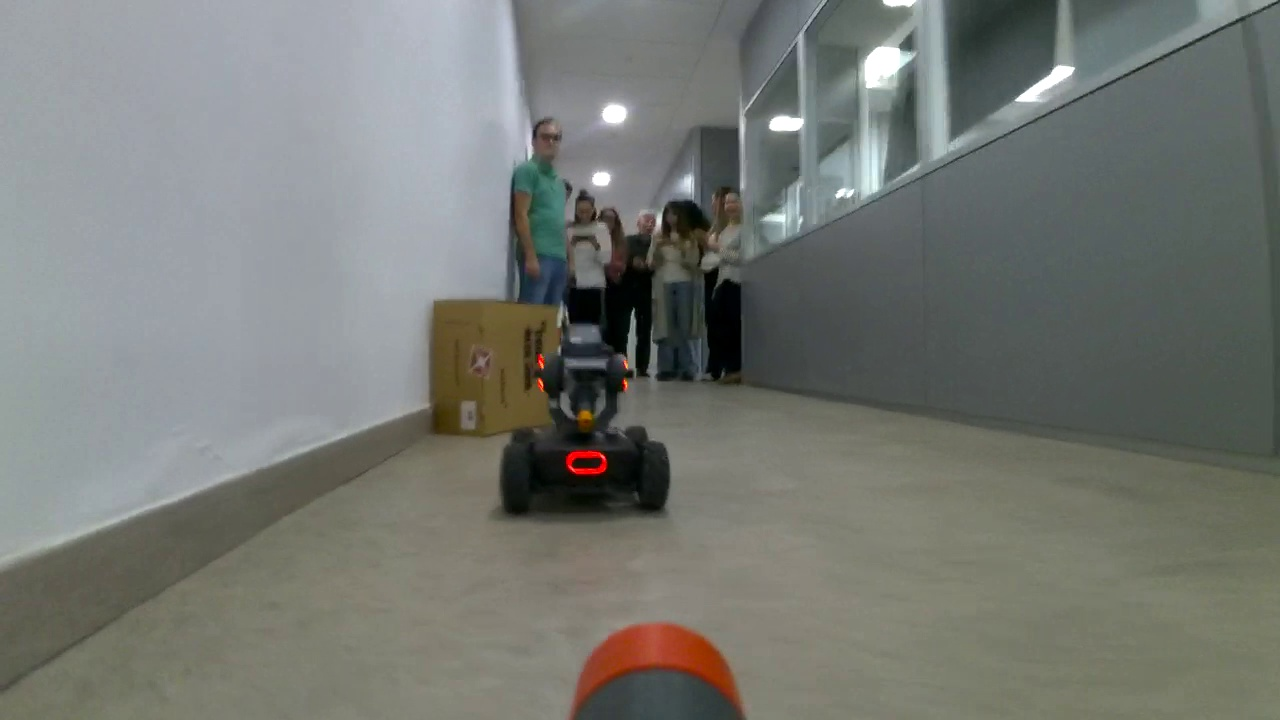robot: (497, 321, 674, 522)
